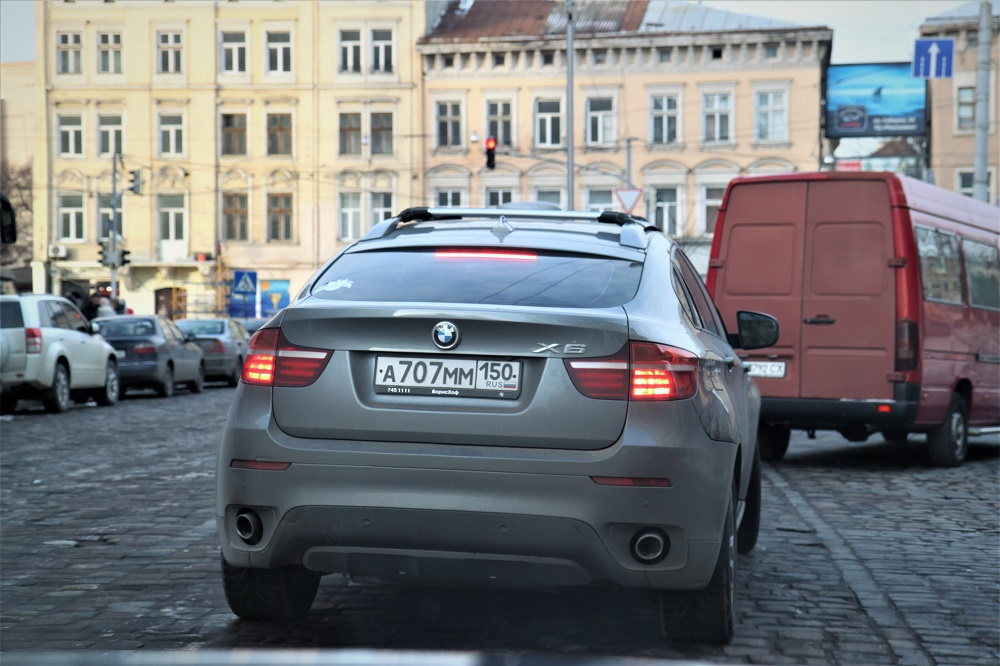number_plate: (366, 354, 526, 391)
